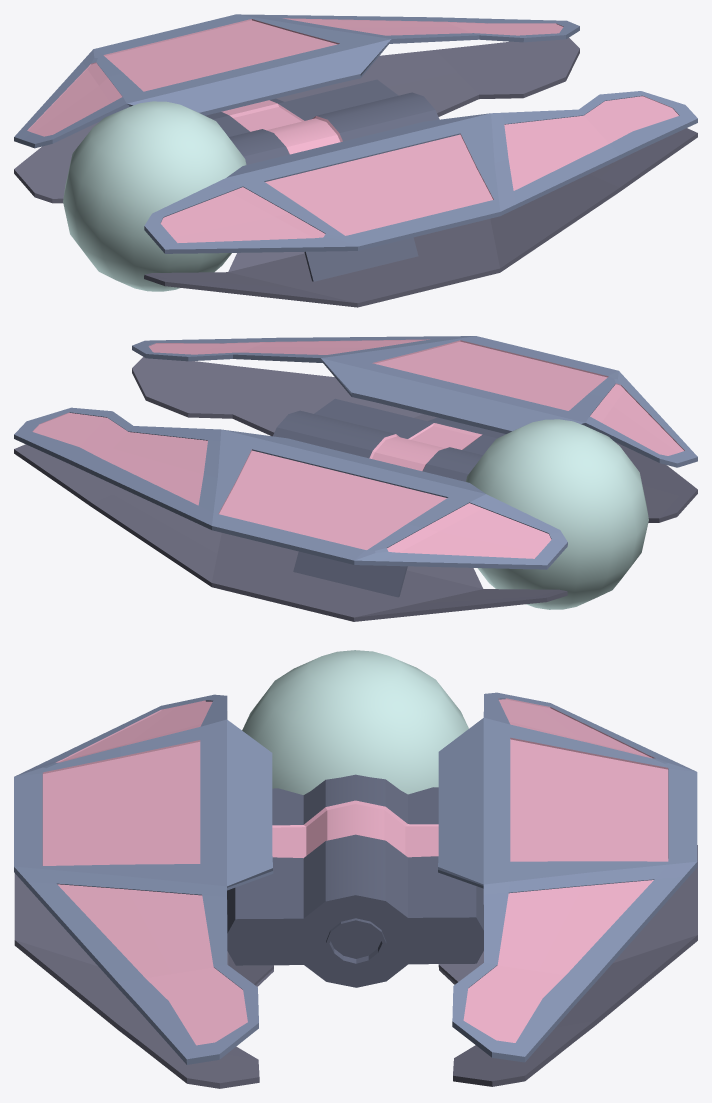
Rendered from vaisseau2.glb.
3 renders of one model, top to bottom at view 1: azimuth 30°, elevation 25°; view 2: azimuth 150°, elevation 25°; view 3: azimuth 270°, elevation 25°, orthographic. The views are drawn at different scales.
Parts seen in each view (by area): view 1: polySurface7, Sphere, polySurface8, polySurface6, pCylinder1_2, pCylinder1; view 2: polySurface7, Sphere, polySurface6, polySurface8, pCylinder1_2, pCylinder1; view 3: polySurface7, pCylinder1_2, Sphere, polySurface6, polySurface8, pCylinder1.
Boxes of the visible parts, x1,y1,x2,y2 form: polySurface7: (14,14,697,253); Sphere: (63,101,246,291); polySurface8: (144,128,697,307); polySurface6: (14,38,579,203); pCylinder1_2: (205,79,439,281); pCylinder1: (221,100,342,154); polySurface7: (14,336,697,569); Sphere: (466,419,648,609); polySurface6: (14,444,567,621); polySurface8: (132,357,697,522); pCylinder1_2: (273,398,505,597); pCylinder1: (369,423,482,471); polySurface7: (14,692,697,1064); pCylinder1_2: (227,774,483,987); Sphere: (242,650,468,794); polySurface6: (438,845,697,1086); polySurface8: (14,873,273,1088); pCylinder1: (272,800,438,858).
Bounding box in the file's own units: 13.8 × 4.09 × 11.34.
